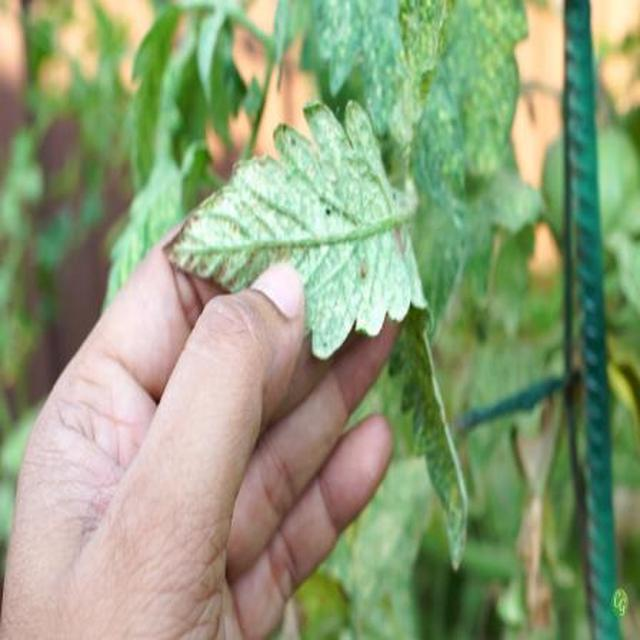Spider Mites Leaf: (128, 330, 612, 635)
